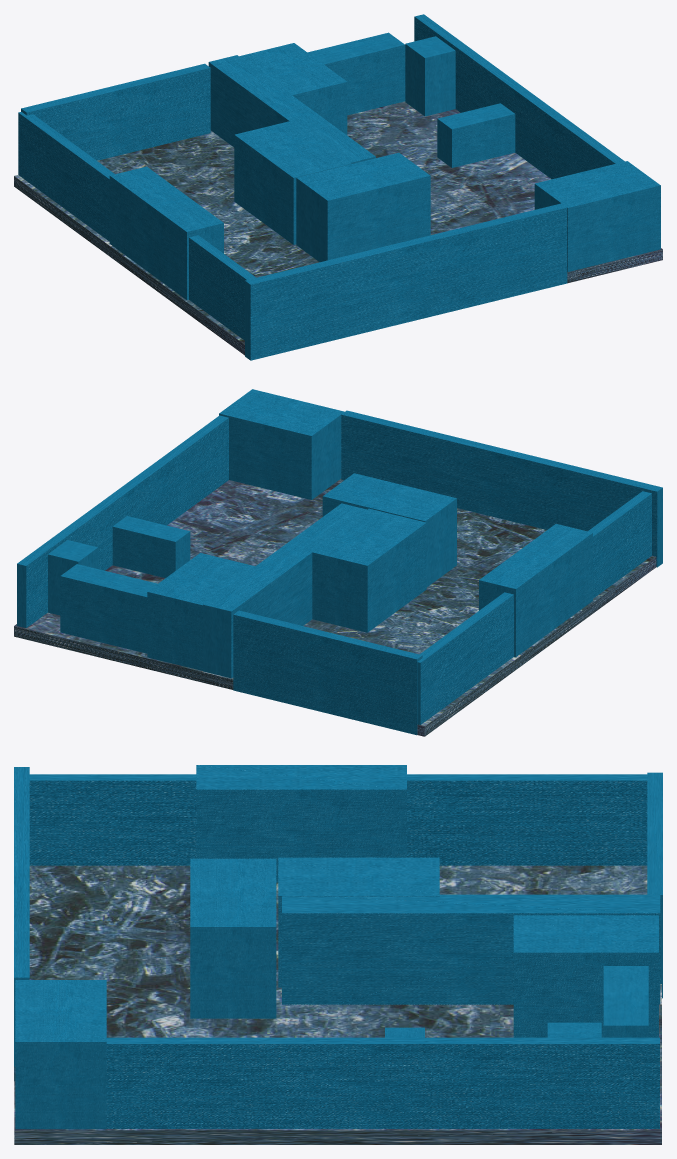
Rendered from FirstMap.fbx.
3 renders of one model, top to bottom at view 1: azimuth 30°, elevation 25°; view 2: azimuth 150°, elevation 25°; view 3: azimuth 270°, elevation 25°, orthographic. The views are drawn at different scales.
Parts seen in each view (by area): view 1: Box012, Box001, Box009, Box016, Box015, Box008, Box014, Box010, Box011, Box006, Box005, Box007 (+2 smaller); view 2: Box001, Box012, Box016, Box014, Box015, Box011, Box008, Box006, Box010, Box007, Box005, Box009 (+2 smaller); view 3: Box014, Box001, Box015, Box006, Box010, Box009, Box007, Box008, Box011, Box012, Box005, Box016 (+1 smaller).
Part boxes in pixels (x1=…): Box012: x1=245, y1=203, x2=567, y2=360; Box001: x1=14, y1=101, x2=662, y2=355; Box009: x1=296, y1=152, x2=430, y2=262; Box016: x1=21, y1=63, x2=210, y2=160; Box015: x1=18, y1=112, x2=256, y2=340; Box008: x1=534, y1=161, x2=660, y2=271; Box014: x1=414, y1=14, x2=624, y2=179; Box010: x1=109, y1=166, x2=223, y2=300; Box011: x1=234, y1=120, x2=350, y2=244; Box006: x1=208, y1=55, x2=375, y2=163; Box005: x1=307, y1=32, x2=405, y2=115; Box007: x1=239, y1=43, x2=347, y2=135; Box001: x1=14, y1=479, x2=656, y2=736; Box012: x1=341, y1=410, x2=662, y2=567; Box016: x1=233, y1=610, x2=422, y2=735; Box014: x1=17, y1=415, x2=228, y2=628; Box015: x1=417, y1=491, x2=651, y2=724; Box011: x1=310, y1=508, x2=426, y2=632; Box008: x1=219, y1=389, x2=344, y2=499; Box006: x1=203, y1=503, x2=366, y2=678; Box010: x1=479, y1=524, x2=592, y2=657; Box007: x1=147, y1=553, x2=254, y2=670; Box005: x1=60, y1=564, x2=157, y2=653; Box009: x1=322, y1=473, x2=456, y2=587; Box014: x1=106, y1=1037, x2=659, y2=1128; Box001: x1=14, y1=865, x2=661, y2=1144; Box015: x1=29, y1=774, x2=647, y2=865; Box006: x1=282, y1=894, x2=660, y2=1004; Box010: x1=196, y1=765, x2=406, y2=882; Box009: x1=190, y1=858, x2=276, y2=1018; Box007: x1=513, y1=915, x2=658, y2=1037; Box008: x1=15, y1=980, x2=106, y2=1129; Box011: x1=278, y1=857, x2=439, y2=987; Box012: x1=14, y1=767, x2=29, y2=1080; Box005: x1=603, y1=966, x2=648, y2=1037; Box016: x1=647, y1=772, x2=662, y2=998.
Size of the model in its own units: 6317 by 6314 by 1164.
Materials: 2 (2 with a texture image).
